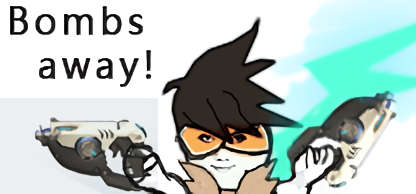dragon: (199, 132, 250, 175)
